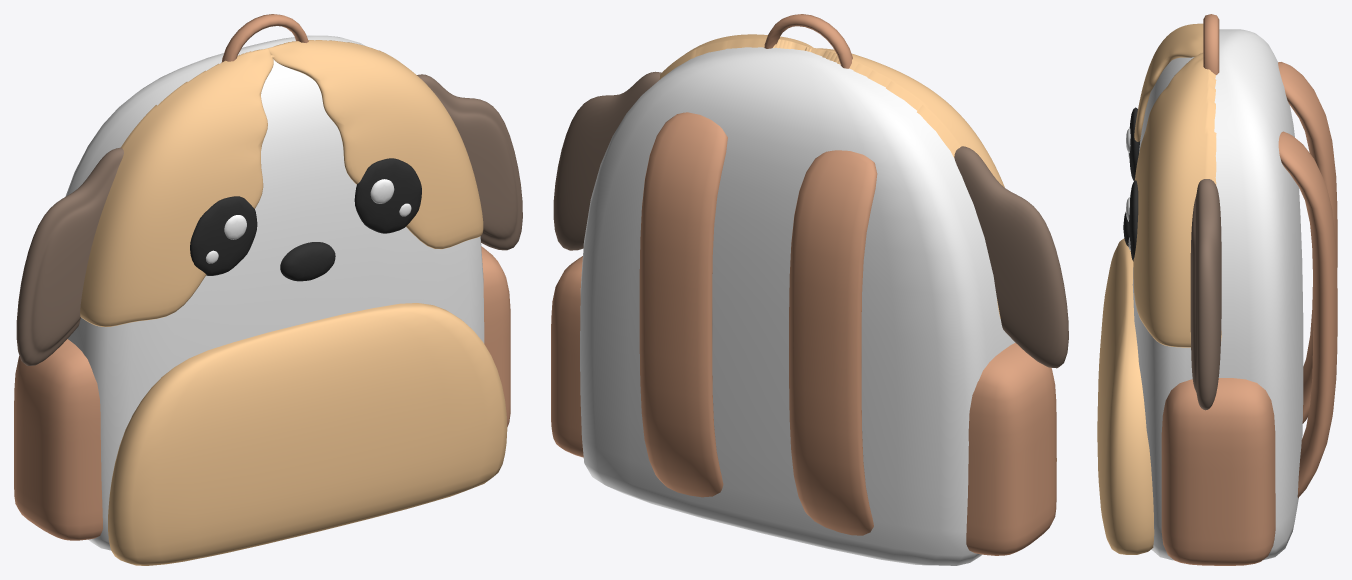
The model's file is bag1.glb.
The picture shows the model from 3 angles, left to right: view 1: azimuth 30°, elevation 25°; view 2: azimuth 150°, elevation 25°; view 3: azimuth 270°, elevation 25°; orthographic projection. The views are drawn at different scales.
Parts seen in each view (by area): view 1: Kubus.028_46, Kubus.034_51, Kubus.027_45, Kubus.029_47, Kubus.031_49, Lingkaran.015_48, Lingkaran.014_50, NurbsPath.008_44, Lingkaran.016_52; view 2: Kubus.027_45, Kubus.040_105, Kubus.041_106, Kubus.029_47, Kubus.031_49, Kubus.034_51, NurbsPath.008_44; view 3: Kubus.027_45, Kubus.029_47, Kubus.034_51, Kubus.028_46, Kubus.041_106, Kubus.031_49, Kubus.040_105, Lingkaran.015_48, NurbsPath.008_44.
Boxes of the visible parts, x1,y1,x2,y2 form: Kubus.028_46: (108,303,507,565); Kubus.034_51: (80,40,483,327); Kubus.027_45: (65,35,484,550); Kubus.029_47: (14,246,510,540); Kubus.031_49: (16,74,522,365); Lingkaran.015_48: (190,158,421,275); Lingkaran.014_50: (280,242,335,281); NurbsPath.008_44: (221,14,308,62); Lingkaran.016_52: (224,179,394,239); Kubus.027_45: (580,47,1015,565); Kubus.040_105: (789,150,877,535); Kubus.041_106: (639,112,727,497); Kubus.029_47: (551,256,1056,555); Kubus.031_49: (553,71,1068,368); Kubus.034_51: (659,34,1004,318); NurbsPath.008_44: (764,14,852,68); Kubus.027_45: (1132,29,1303,560); Kubus.029_47: (1161,378,1275,565); Kubus.034_51: (1133,23,1221,347); Kubus.028_46: (1097,238,1154,554); Kubus.041_106: (1278,131,1337,497); Kubus.031_49: (1190,179,1221,410); Kubus.040_105: (1278,62,1337,423); Lingkaran.015_48: (1129,107,1140,261); NurbsPath.008_44: (1203,14,1219,74).
Bounding box in the file's own units: 2.83 × 2.57 × 1.21.
